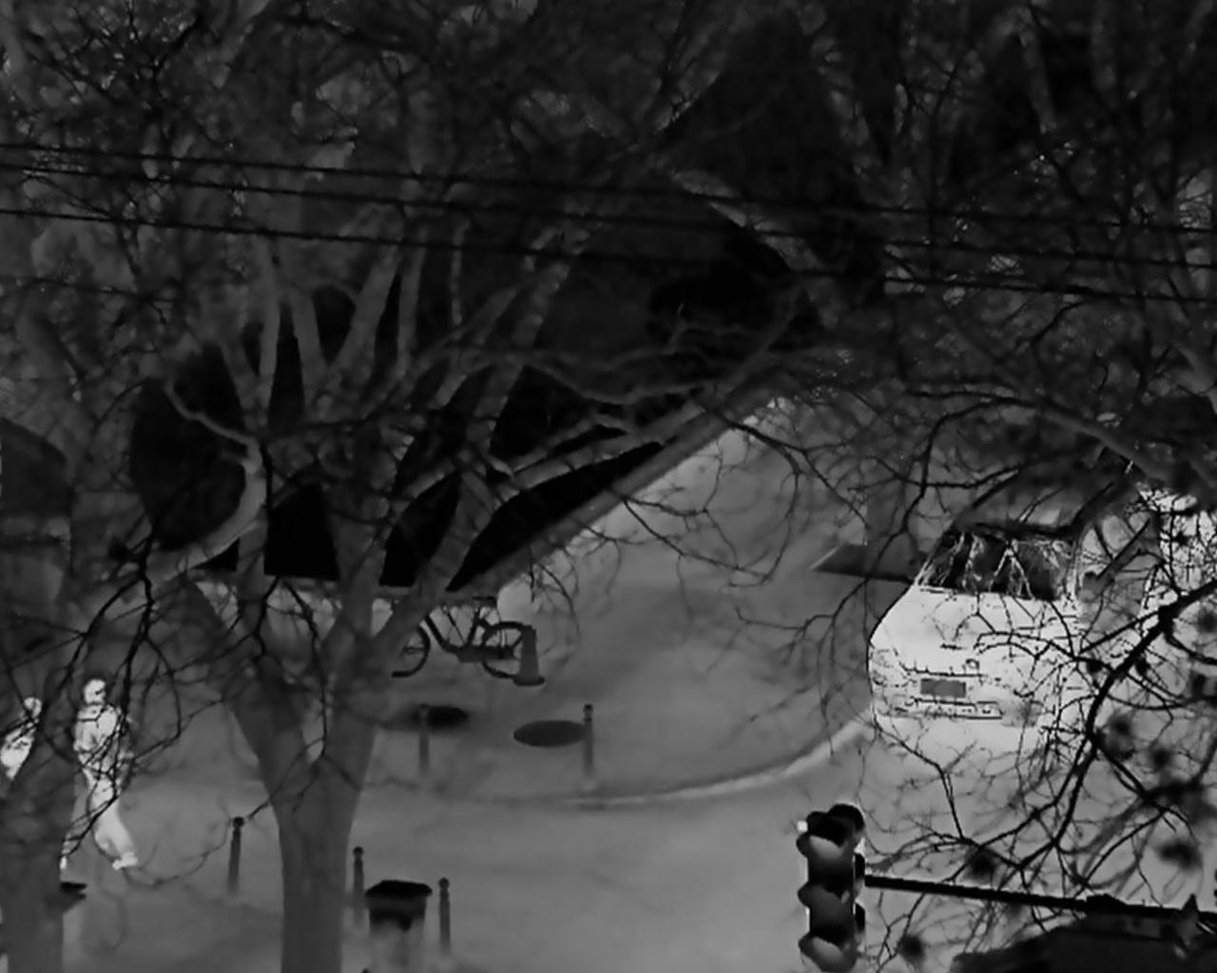person: (76, 679, 139, 869)
